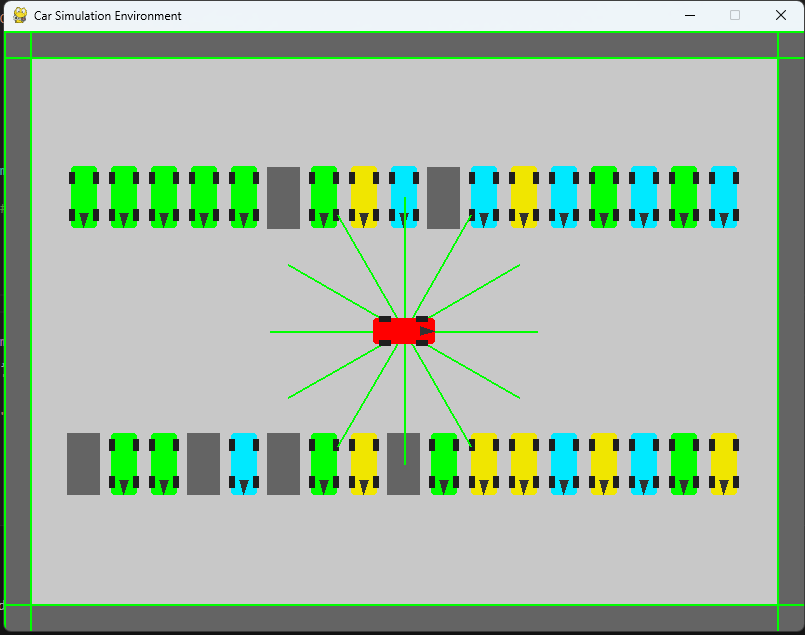ControlledCar: (368, 306, 441, 353)
ParkedCar: (463, 161, 502, 230), (345, 160, 381, 233), (626, 163, 662, 233), (706, 429, 742, 499), (145, 430, 182, 498), (425, 429, 460, 500), (585, 163, 620, 233), (383, 159, 417, 231), (224, 430, 261, 496), (66, 161, 101, 230), (227, 162, 261, 233), (586, 431, 622, 498), (507, 433, 543, 499), (546, 164, 583, 228), (347, 430, 381, 499), (465, 430, 499, 499), (626, 430, 661, 497), (669, 431, 702, 502), (306, 159, 338, 231), (546, 433, 582, 497), (107, 163, 141, 230), (147, 163, 180, 231), (668, 162, 701, 230), (506, 166, 541, 230), (107, 430, 139, 498), (306, 432, 338, 499), (709, 166, 740, 234), (189, 160, 219, 230)
ParkingSpot: (60, 426, 105, 501), (384, 425, 425, 505), (420, 162, 464, 233), (265, 423, 304, 499), (184, 425, 220, 499), (265, 162, 303, 231)
